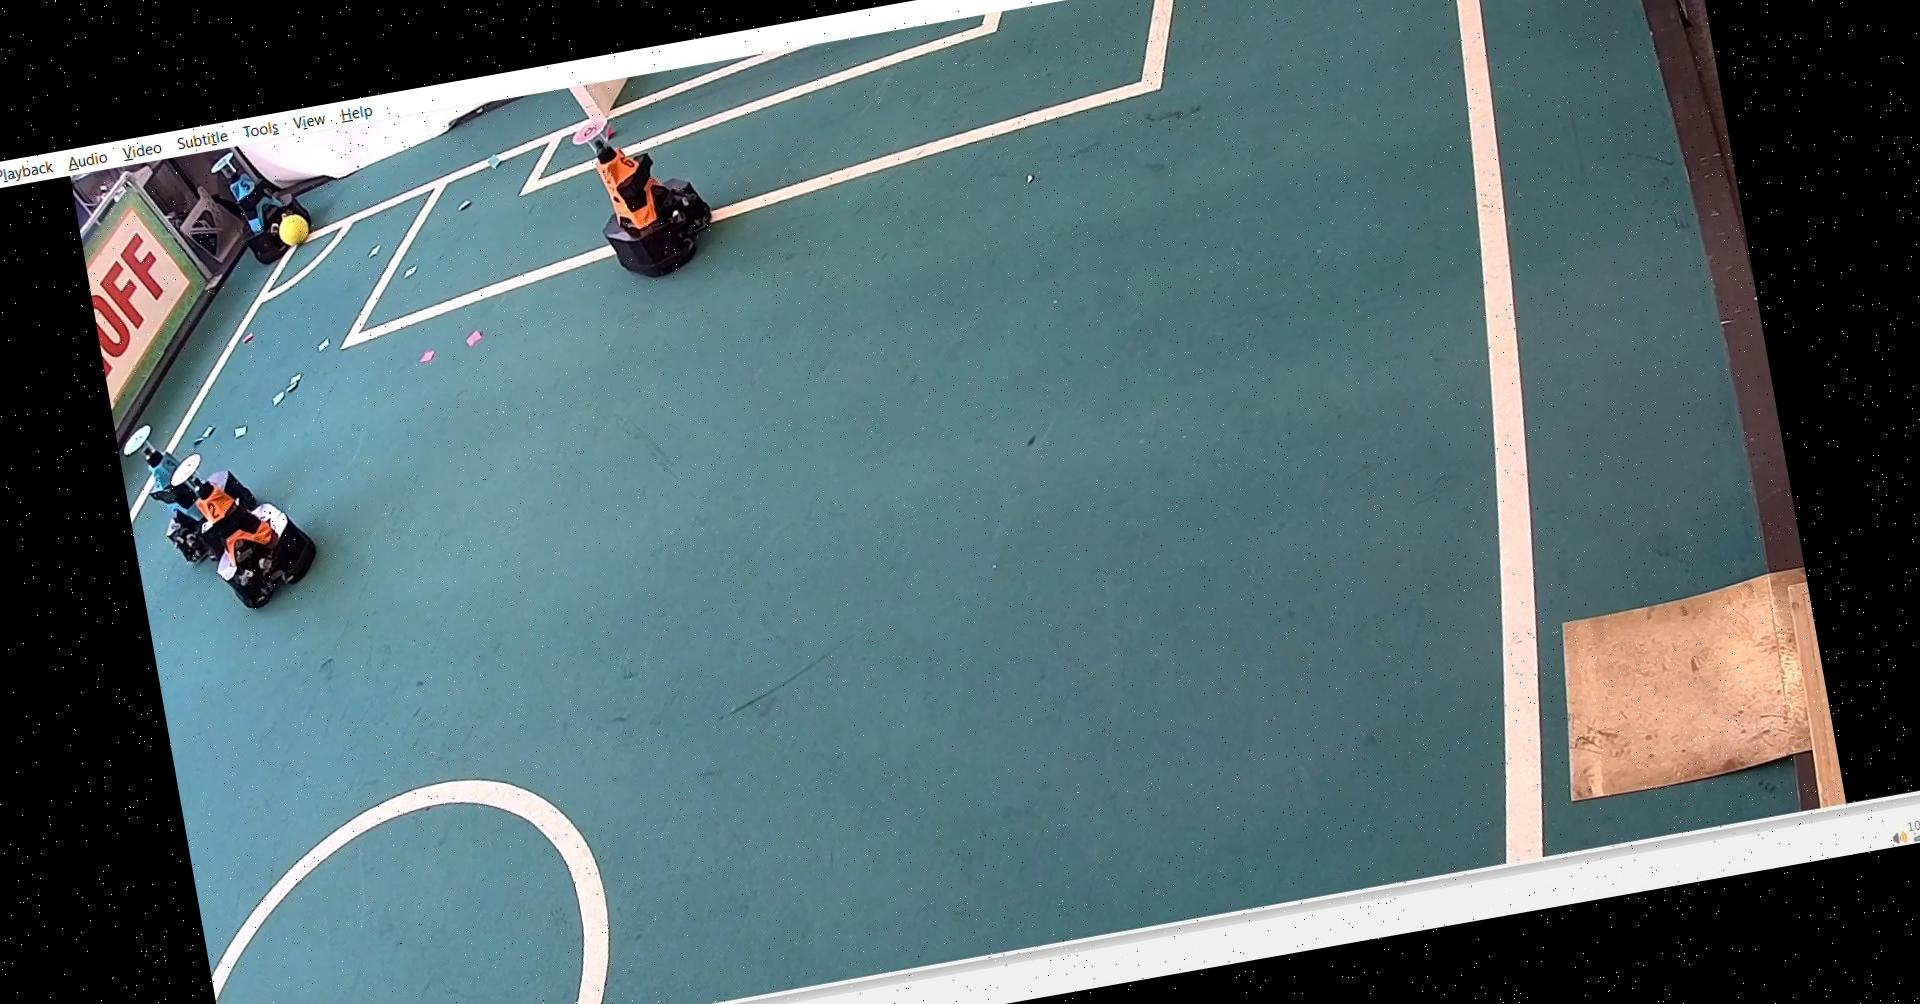Ball: (270, 203, 312, 250)
Team_Blue: (124, 410, 226, 558), (207, 137, 317, 264)
Team_Red: (561, 107, 724, 291), (170, 434, 325, 613)
